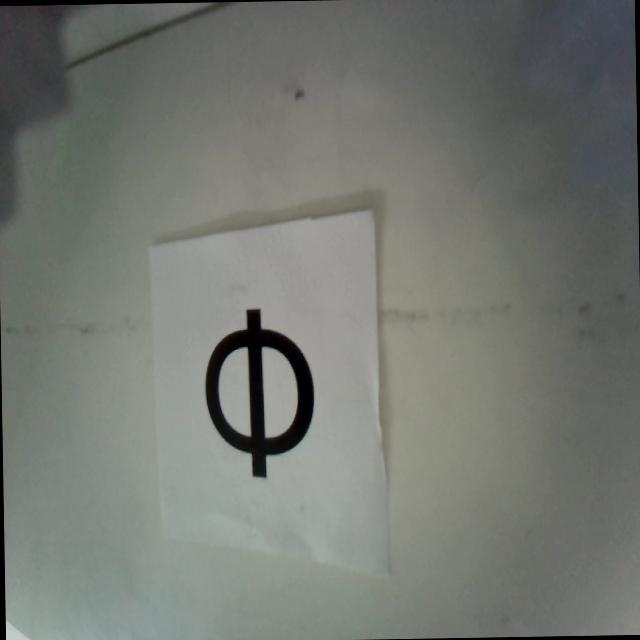F: (202, 308, 315, 474)
